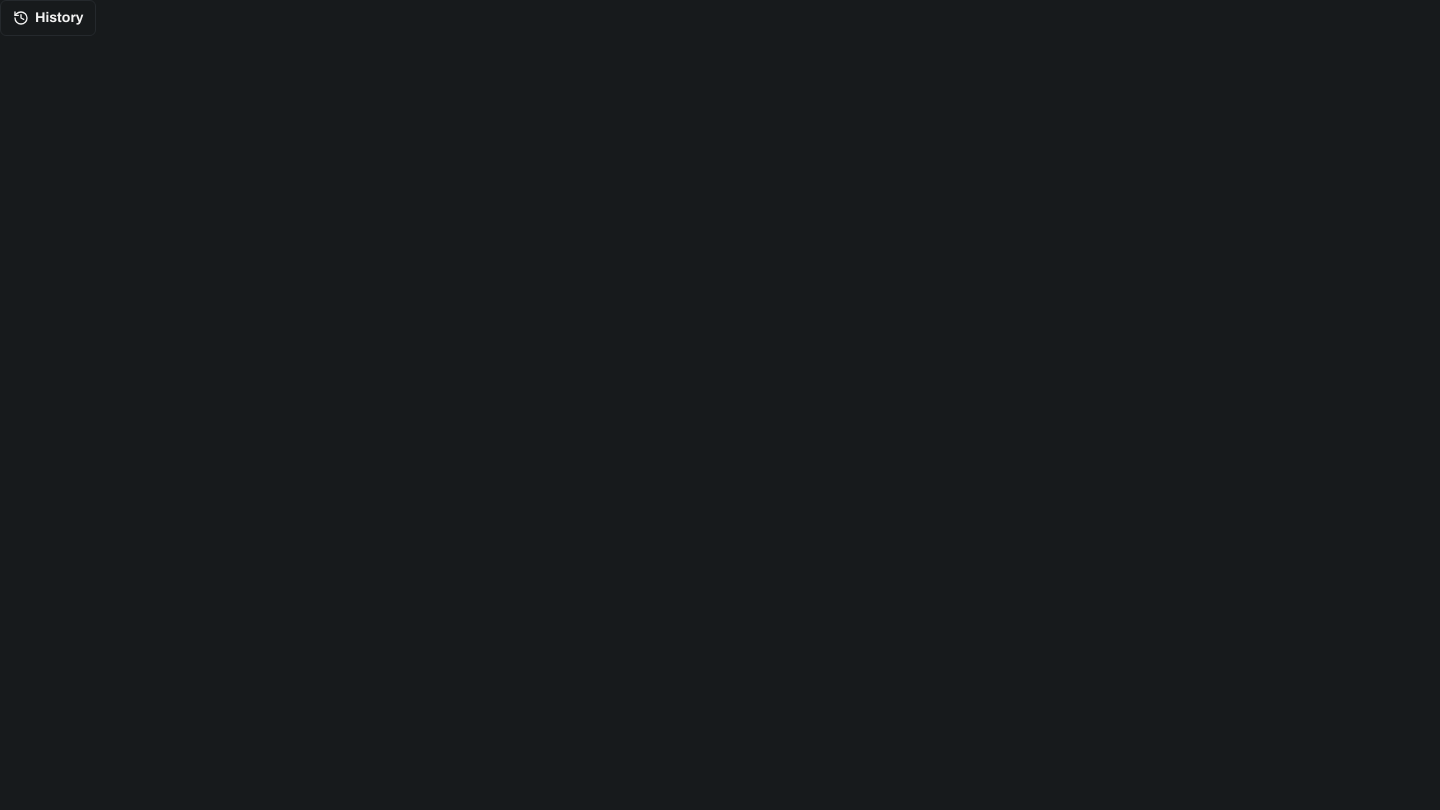
Test case: History reopens a game to correct it › says why, and offers nothing, when the live record is gone
Click the button "History" at (48, 18), box [0,0,96,36]
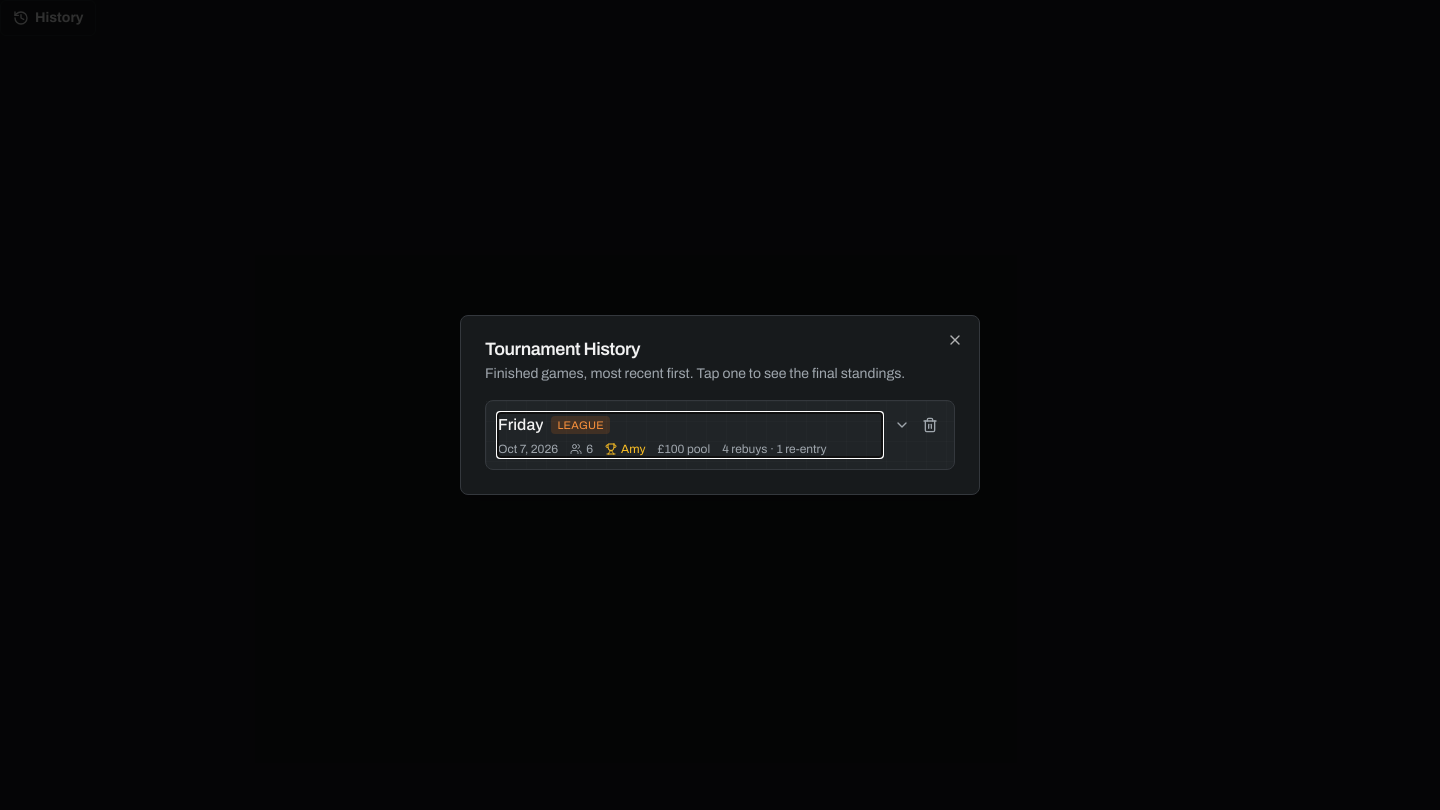
Click the text "Friday" at (521, 425), box [498,413,544,437]
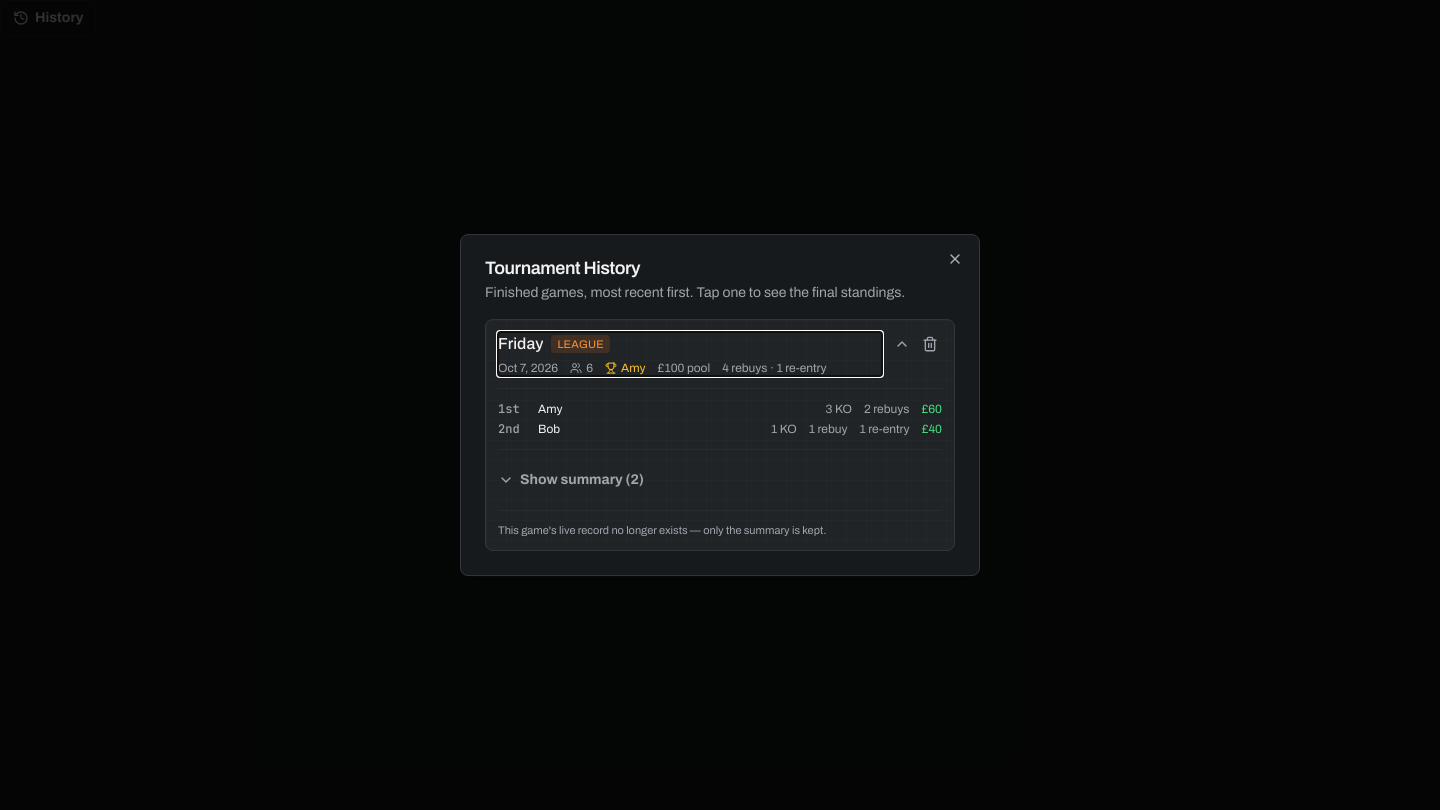
expect the text "live record no longer exists" is shown: met, box [498,524,826,536]
